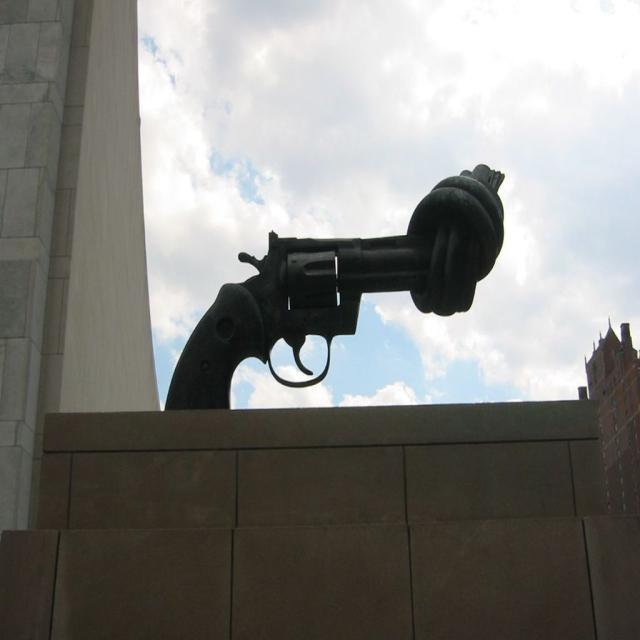Gun: (166, 232, 429, 409)
